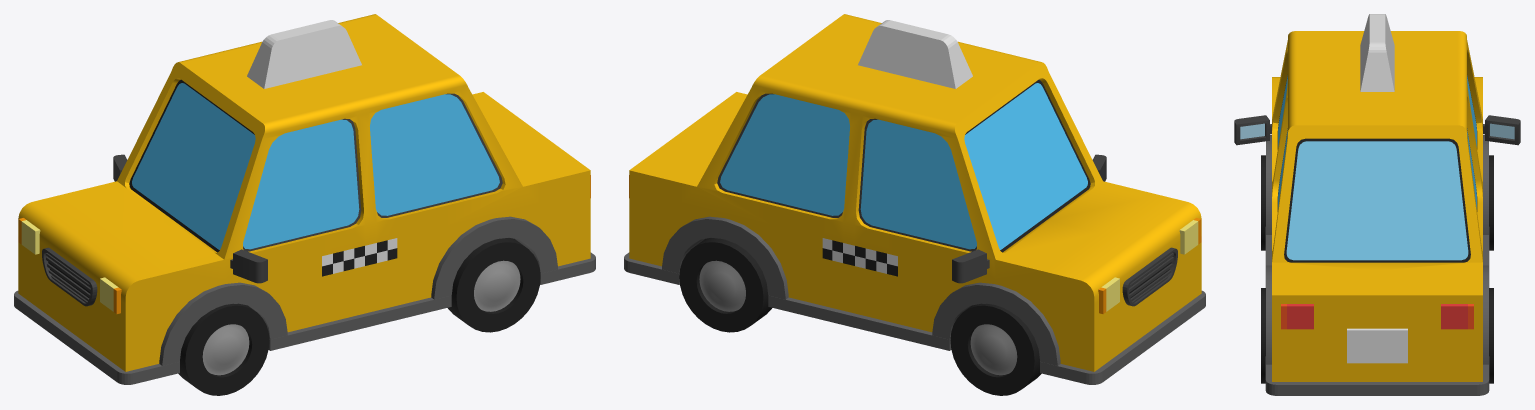
The model's file is taxi.gltf.
3 views of the same model, side by side, from view 1: azimuth 30°, elevation 25°; view 2: azimuth 150°, elevation 25°; view 3: azimuth 270°, elevation 25° (orthographic).
Visible parts, largest first — view 1: Cube.642; view 2: Cube.642; view 3: Cube.642.
Boxes of the visible parts, x1,y1,x2,y2 form: Cube.642: [14, 14, 595, 395]; Cube.642: [624, 14, 1205, 395]; Cube.642: [1234, 14, 1520, 395].
Bounding box in the file's own units: 2.17 × 1.27 × 1.15.
1 material, 1 textured.
